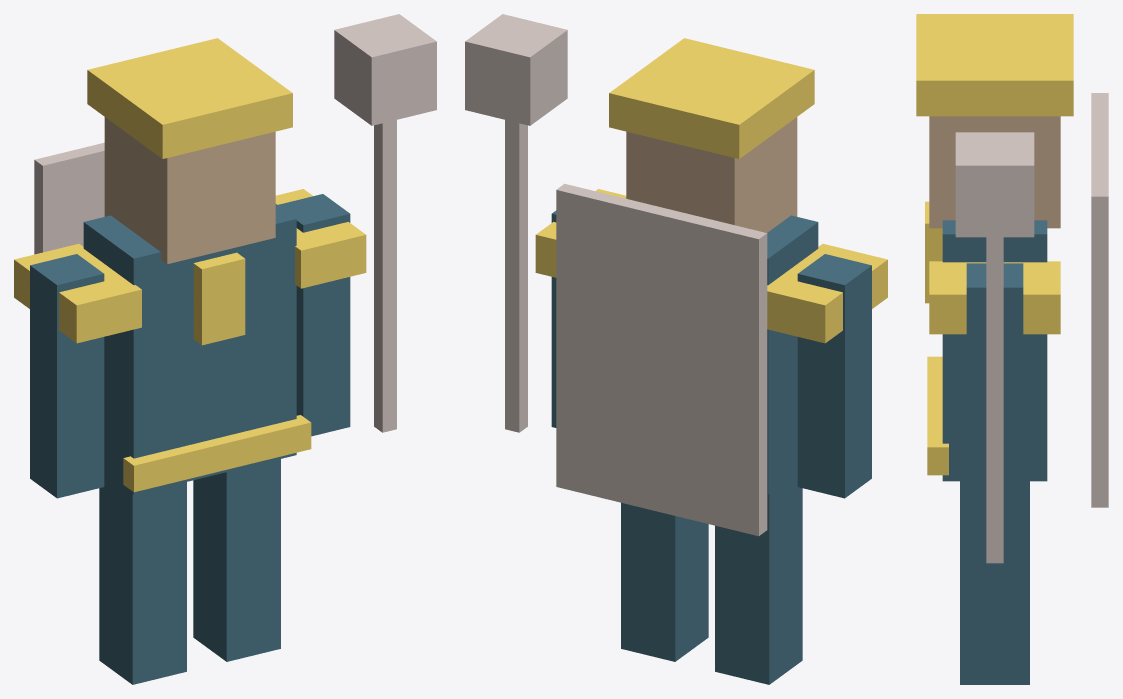
Rendered from 10_lyric_skyharrow_keeper_near_deepwater.glb.
The picture shows the model from 3 angles, left to right: view 1: azimuth 30°, elevation 25°; view 2: azimuth 150°, elevation 25°; view 3: azimuth 270°, elevation 25°; orthographic projection. The views are drawn at different scales.
Visible parts, largest first — view 1: Lyric Skyharrow, Keeper near Deepwater; view 2: Lyric Skyharrow, Keeper near Deepwater; view 3: Lyric Skyharrow, Keeper near Deepwater.
Boxes of the visible parts, bbox=[...] form: Lyric Skyharrow, Keeper near Deepwater: bbox=[14, 14, 436, 684]; Lyric Skyharrow, Keeper near Deepwater: bbox=[465, 14, 887, 684]; Lyric Skyharrow, Keeper near Deepwater: bbox=[916, 14, 1108, 684].
Size of the model in its own units: 1.08 by 1.58 by 0.4603.
